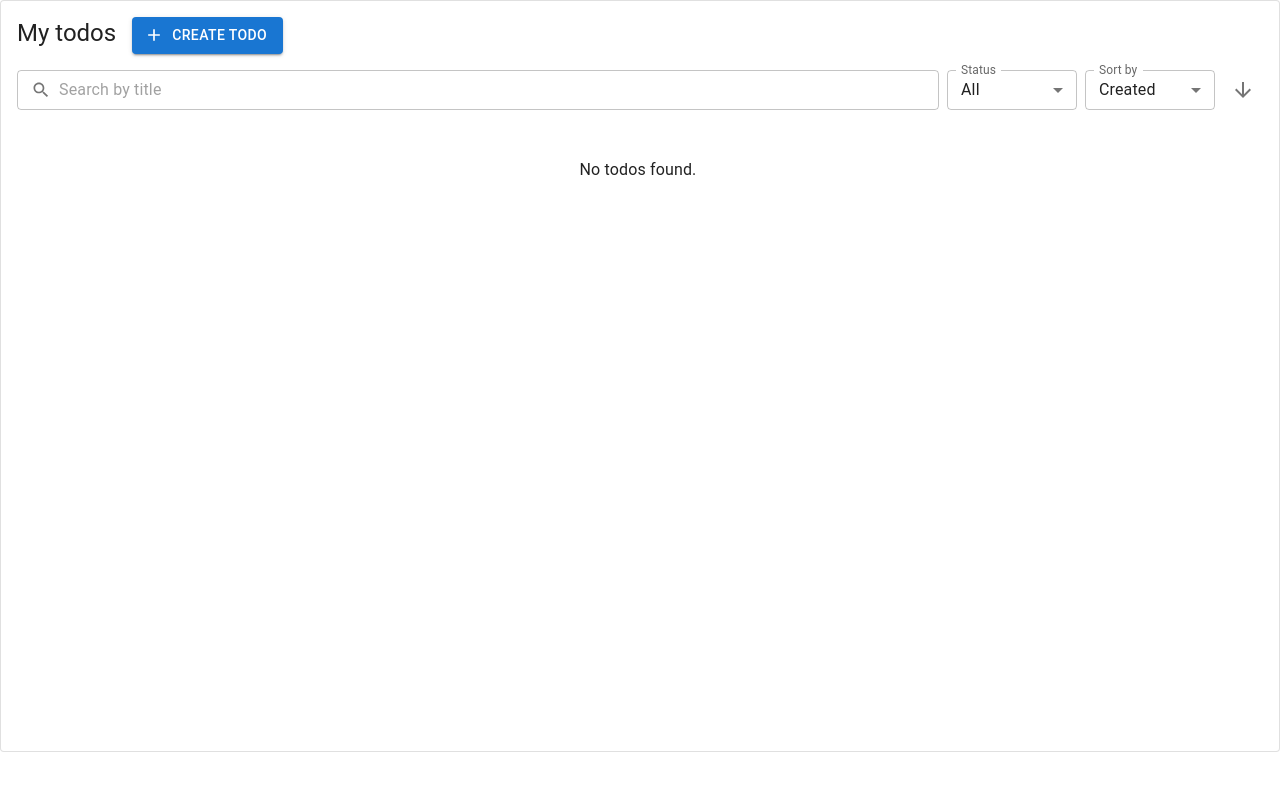
Test: TodoComponent › sorting › lists all sort options
Click the dropdown named "Sort by" at (1127, 90), box [1099,80,1156,99]
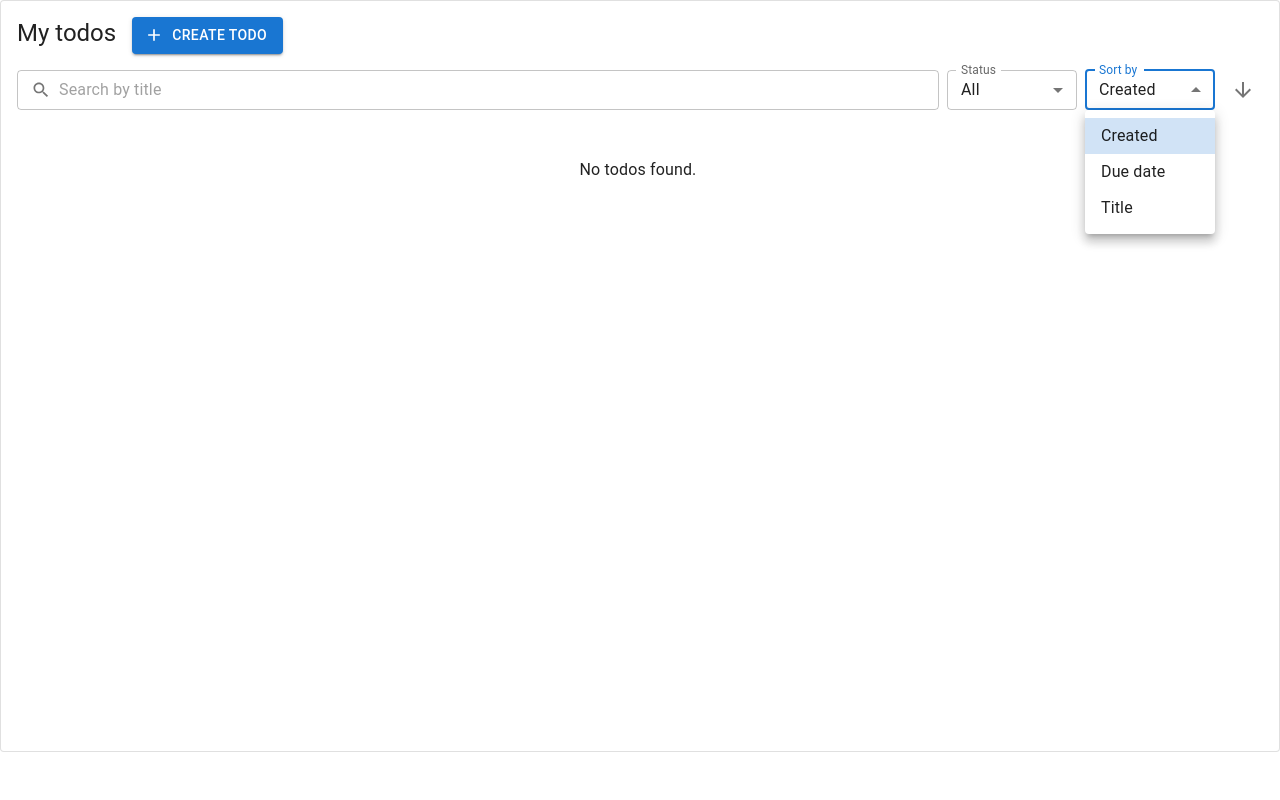
Check: the options read "Created", "Due date", "Title", in this order, box [1085,118,1215,154]; [1101,162,1165,181]; [1101,198,1133,217]
